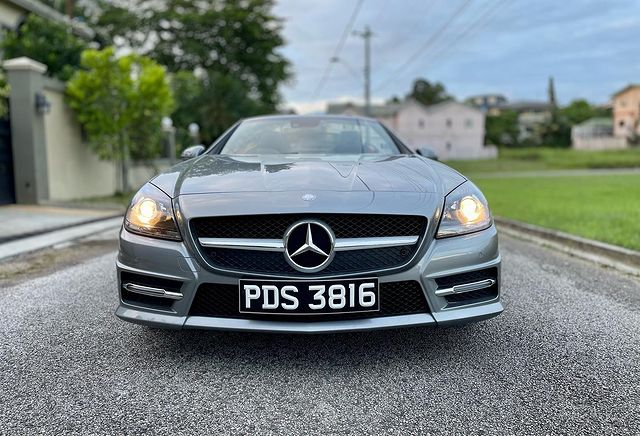License-Plate: (238, 280, 378, 311)
